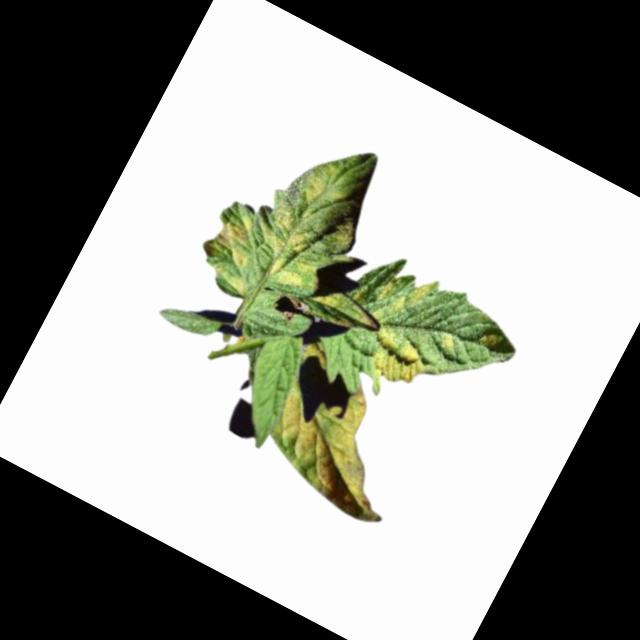Leaf_Mold: (252, 362, 431, 532), (242, 198, 346, 302), (190, 204, 276, 296), (355, 321, 432, 397), (298, 156, 357, 219), (390, 268, 438, 321), (475, 329, 498, 352)
